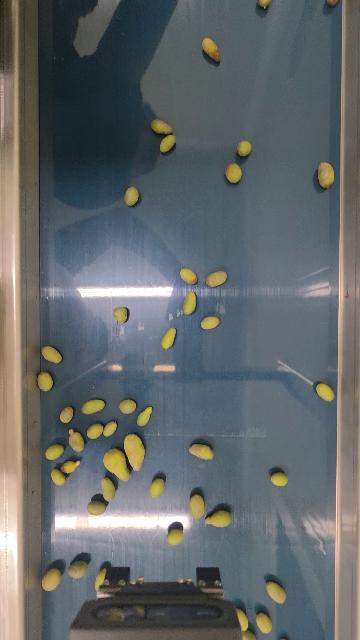Baby Potato: (101, 447, 132, 482), (123, 433, 146, 472), (200, 36, 222, 63), (41, 566, 62, 592), (266, 580, 287, 605), (205, 509, 232, 528), (317, 161, 335, 189), (150, 116, 175, 136), (189, 442, 215, 461), (188, 493, 206, 519), (68, 428, 86, 453), (41, 344, 63, 364), (81, 398, 106, 415), (315, 381, 335, 402), (100, 476, 116, 502), (182, 290, 198, 316), (224, 162, 242, 185), (205, 269, 228, 287), (68, 559, 88, 579), (158, 133, 177, 154), (255, 612, 273, 634), (161, 326, 177, 350), (37, 370, 54, 392), (123, 185, 140, 207), (235, 607, 250, 631), (45, 443, 65, 461), (149, 477, 165, 499), (137, 405, 153, 427), (180, 267, 198, 285), (167, 527, 184, 546), (270, 470, 289, 487), (94, 567, 108, 590), (87, 500, 107, 516), (86, 422, 104, 439), (112, 305, 128, 324), (200, 315, 220, 330), (236, 140, 253, 157), (50, 468, 66, 486), (61, 459, 81, 473), (119, 398, 136, 414), (59, 405, 74, 423), (103, 420, 118, 437), (239, 631, 257, 640), (256, 0, 273, 9), (326, 0, 340, 6)
